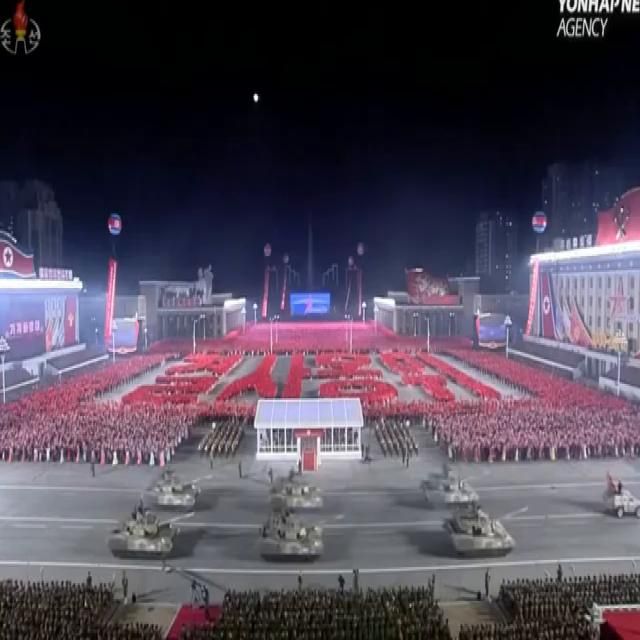north tank: (440, 493, 538, 575), (247, 508, 337, 576), (105, 507, 192, 566), (139, 459, 208, 522), (266, 460, 332, 522), (414, 465, 490, 511)
